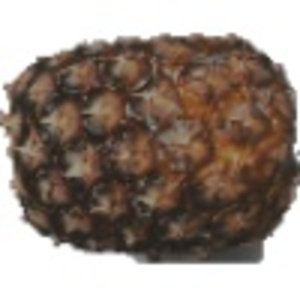abacaxi: (2, 38, 292, 253)
